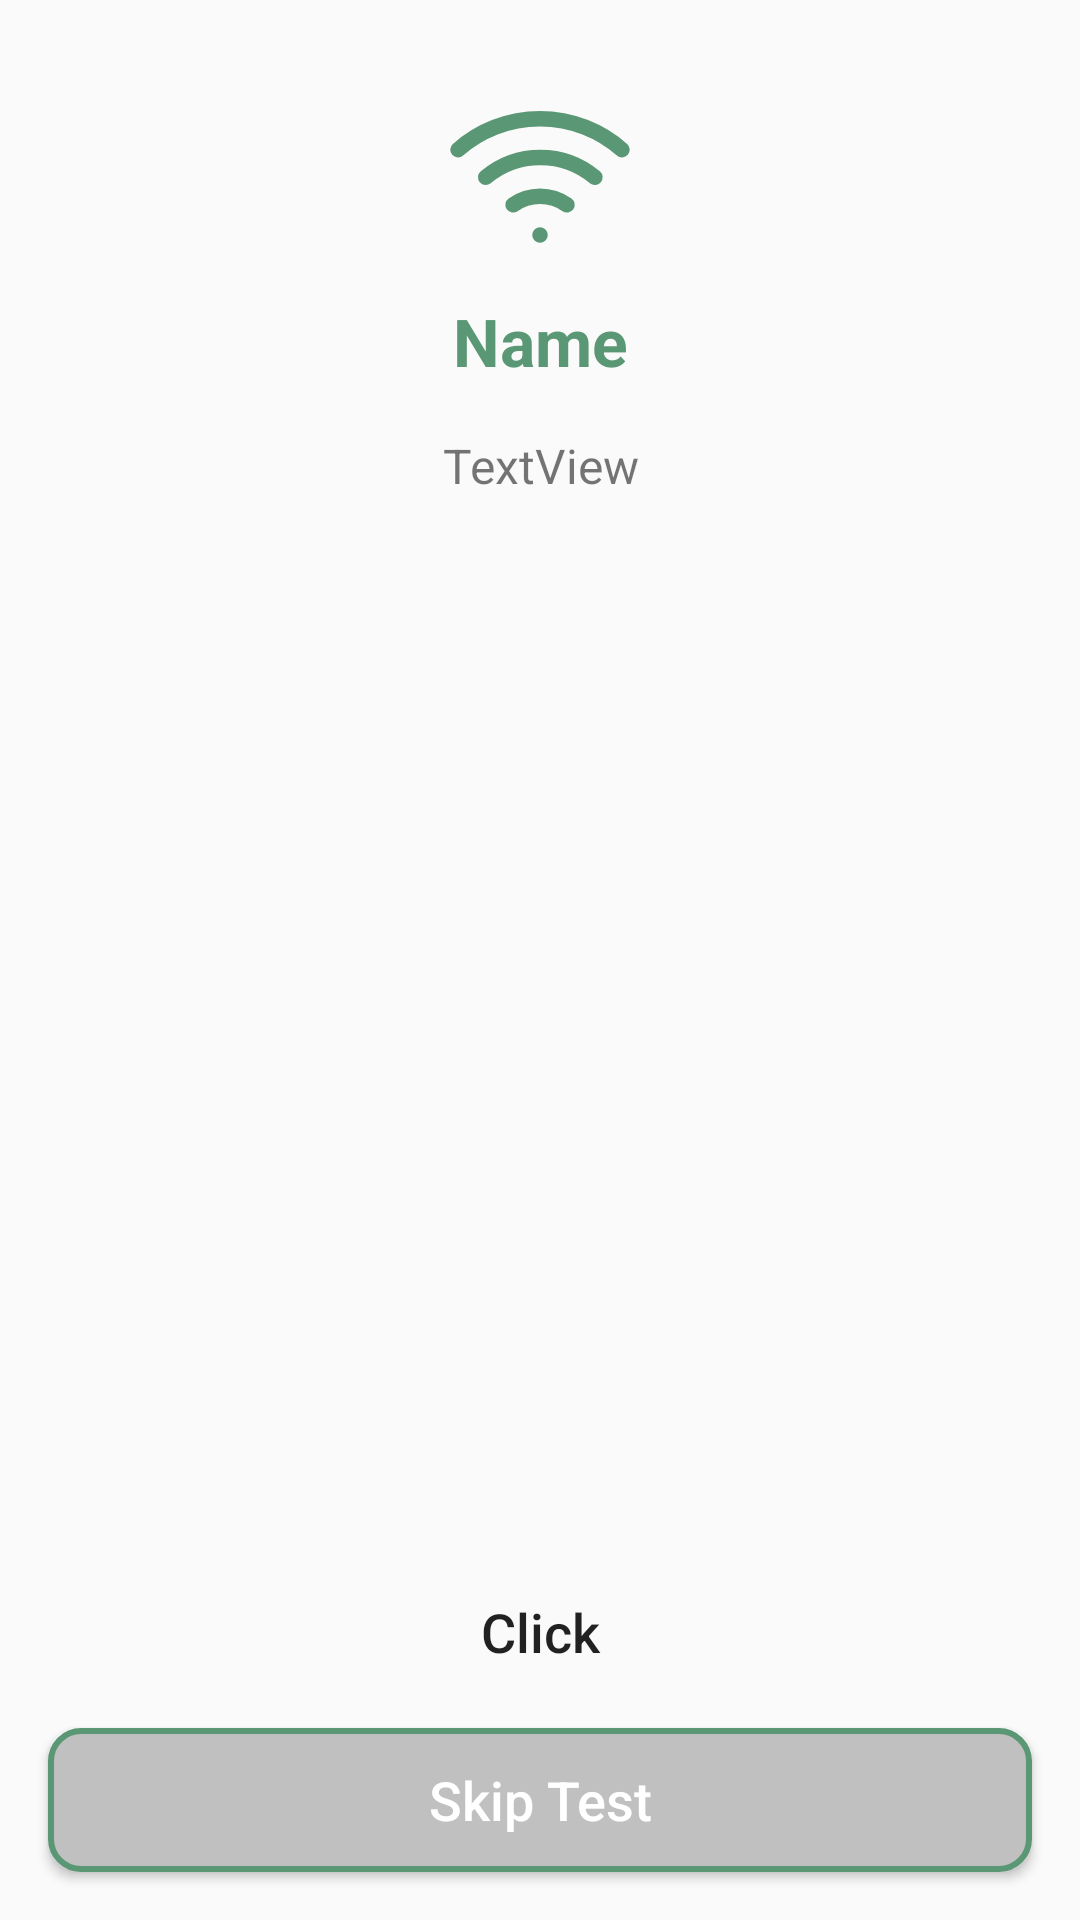

Named icons in this screenshot (1080w x 1920h) and their bounding boxes, Rect(x1, y1, x2, y2):
wifi: Rect(450, 111, 630, 243)
